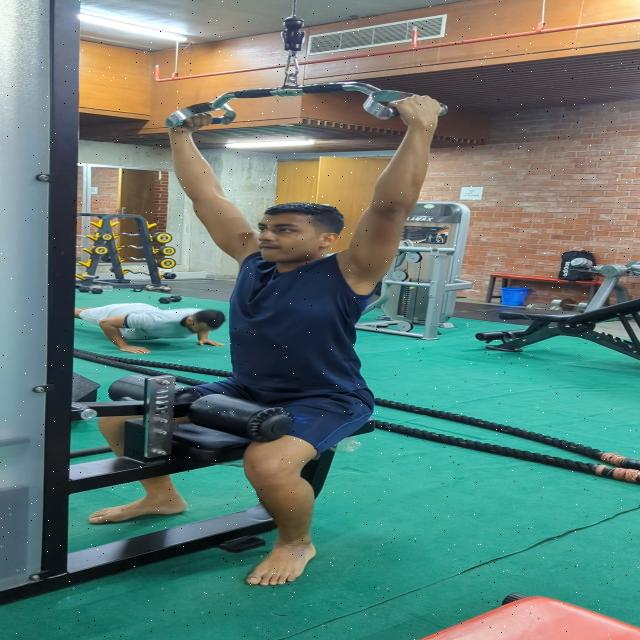Normal_LatPulldown: (80, 91, 456, 592)
